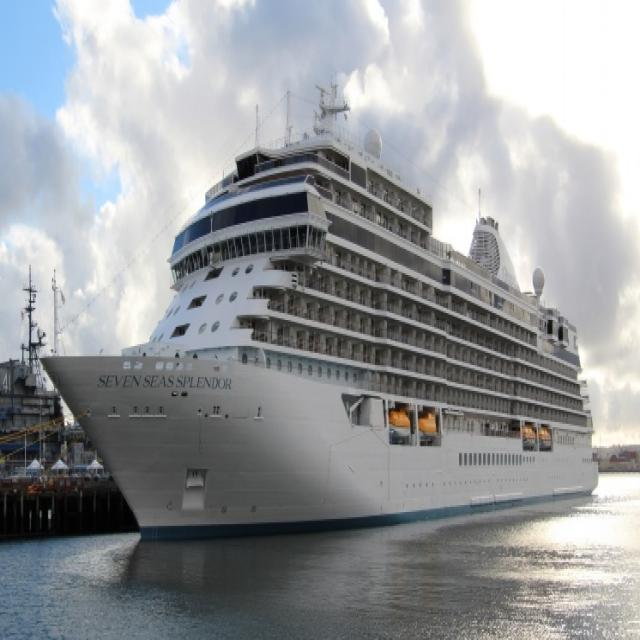cruises: (39, 76, 603, 555)
